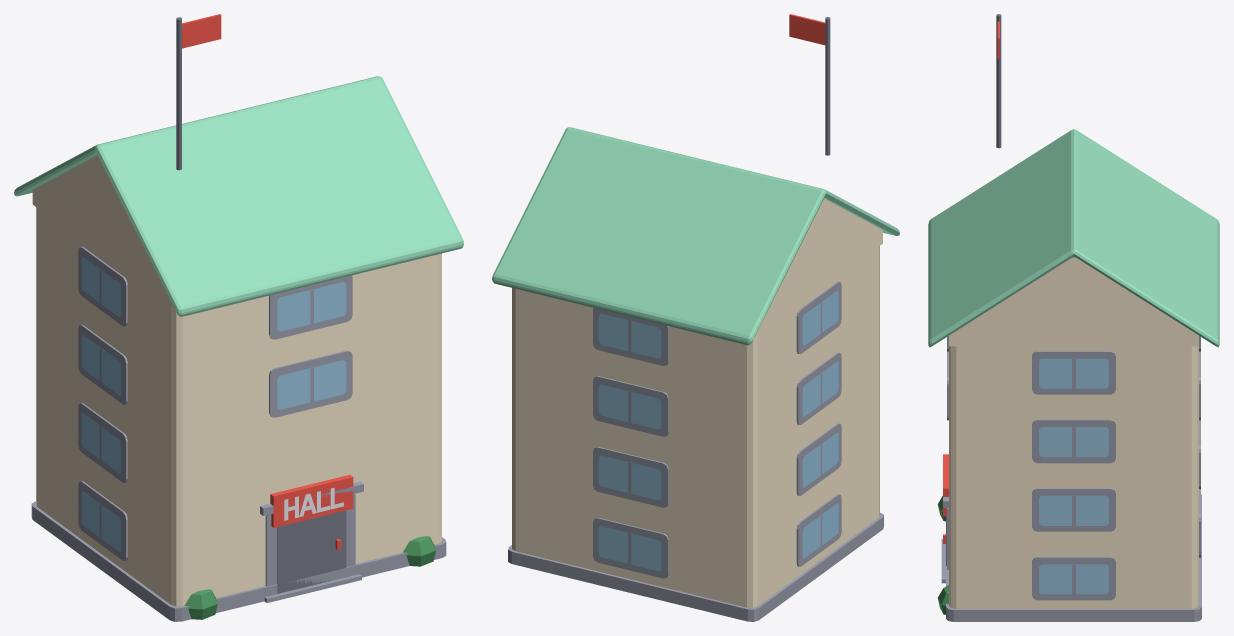
The model's file is community-hall-1x1-4f.glb.
3 views of the same model, side by side, from view 1: azimuth 30°, elevation 25°; view 2: azimuth 150°, elevation 25°; view 3: azimuth 270°, elevation 25° (orthographic). The views are drawn at different scales.
Parts seen in each view (by area): view 1: community-hall-1x1-4f; view 2: community-hall-1x1-4f; view 3: community-hall-1x1-4f.
Part boxes in pixels (<box>): community-hall-1x1-4f: <box>14,14,463,621</box>; community-hall-1x1-4f: <box>492,14,899,621</box>; community-hall-1x1-4f: <box>928,14,1219,621</box>.
Bounding box in the file's own units: 1 × 1.91 × 1.
Materials: 1 (1 with a texture image).
